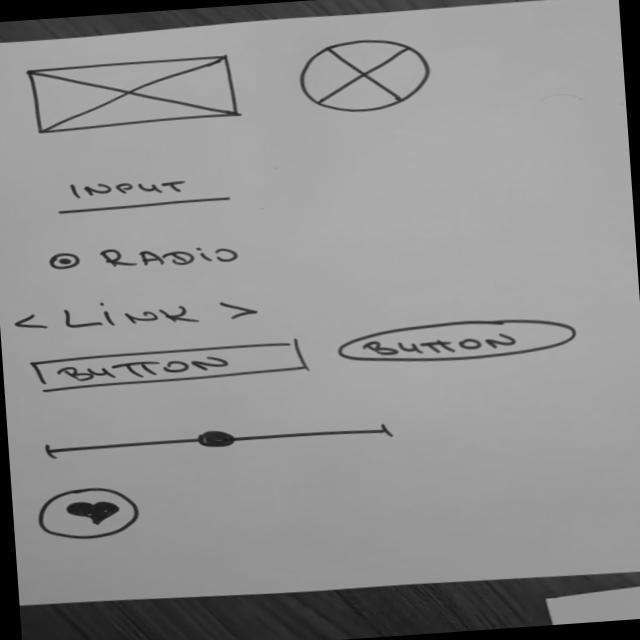button: (27, 336, 312, 395), (332, 310, 582, 370)
icon-button: (32, 481, 144, 544)
image: (22, 51, 242, 135), (292, 34, 434, 119)
input: (48, 166, 236, 216)
link: (10, 286, 260, 340)
radio: (43, 236, 243, 280)
slider: (35, 415, 399, 463)
